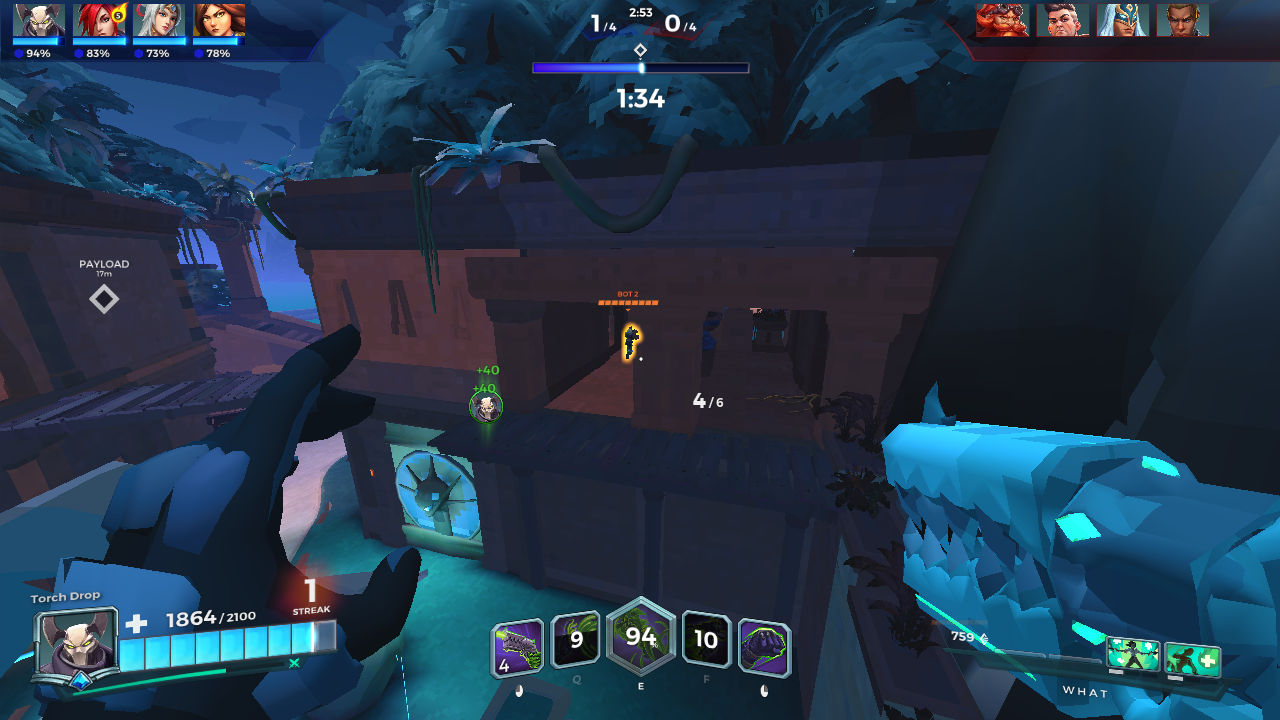model: (614, 322, 648, 368)
